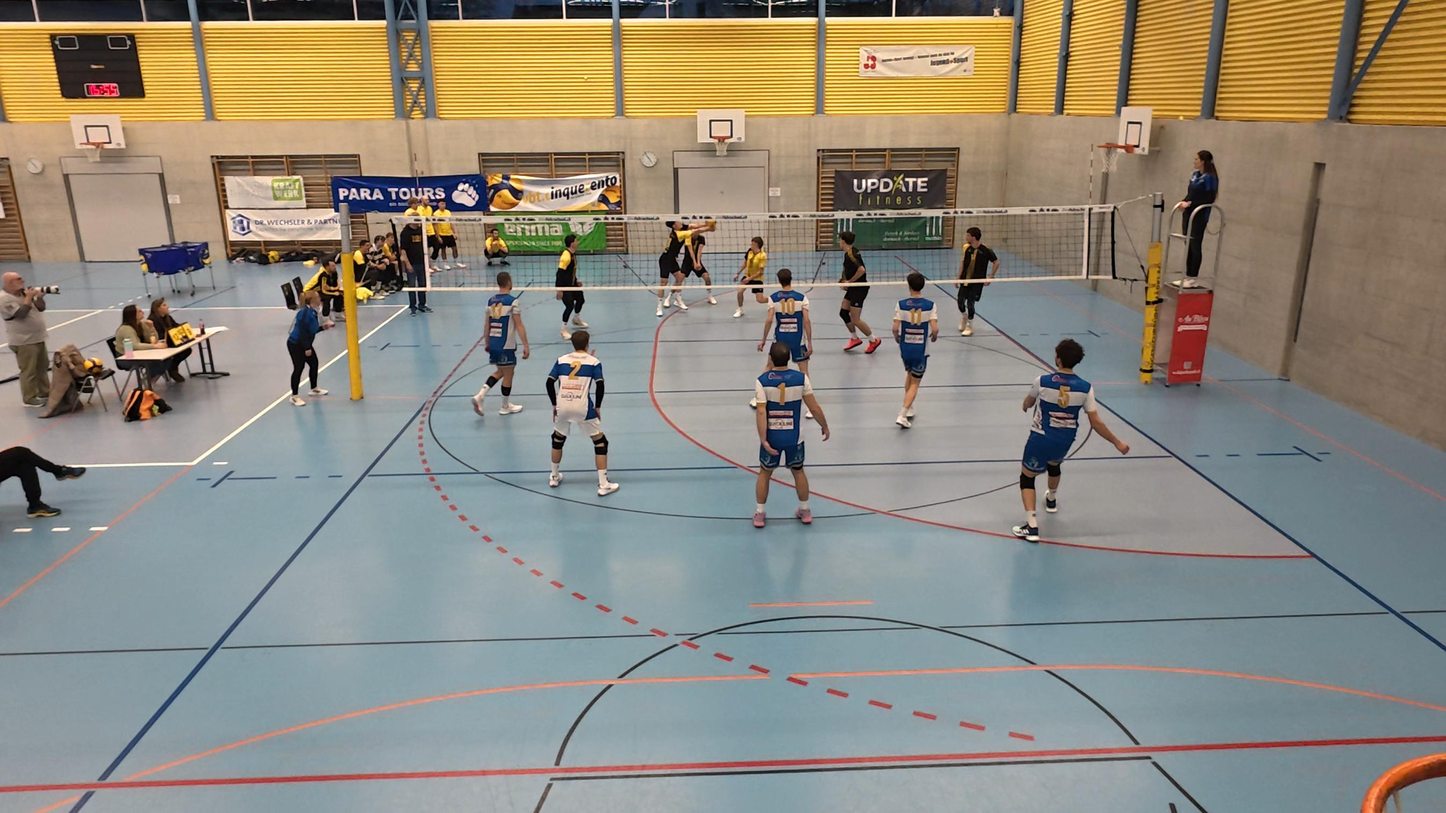Player: (1014, 339, 1131, 539), (752, 346, 828, 529), (545, 328, 616, 496), (468, 274, 530, 415), (889, 272, 939, 430), (762, 274, 816, 386), (833, 229, 880, 355), (951, 226, 999, 342), (549, 231, 589, 344), (685, 215, 725, 310), (732, 238, 771, 316)
Receive: (641, 208, 717, 318)
ball: (699, 215, 717, 233)
